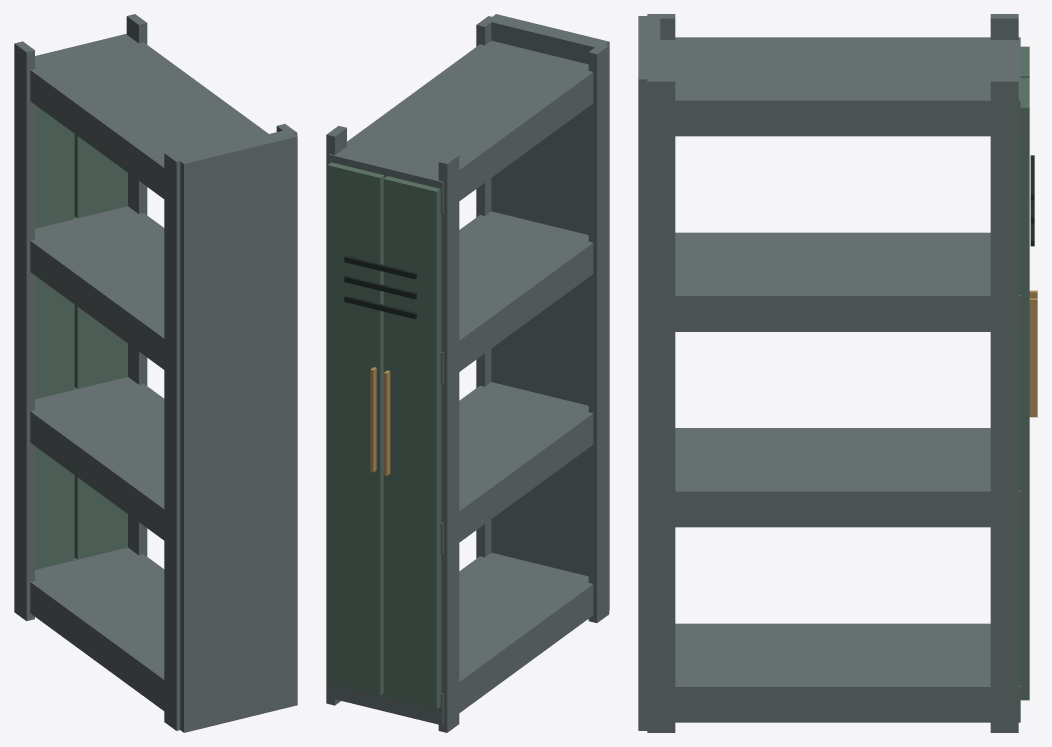
The model's file is LP_MaintenanceEast_UtilityCabinet.fbx.
3 renders of one model, left to right at view 1: azimuth 30°, elevation 25°; view 2: azimuth 150°, elevation 25°; view 3: azimuth 270°, elevation 25°, orthographic. The views are drawn at different scales.
Parts seen in each view (by area): view 1: M_Museum_BrushedMetal, SageUpholstery; view 2: M_Museum_BrushedMetal, SageUpholstery, Charcoal, AgedBrass; view 3: M_Museum_BrushedMetal, SageUpholstery, AgedBrass.
Part boxes in pixels (left/top/right/bottom): M_Museum_BrushedMetal: left=14, top=14, right=297, bottom=732; SageUpholstery: left=35, top=105, right=127, bottom=569; M_Museum_BrushedMetal: left=326, top=14, right=609, bottom=732; SageUpholstery: left=327, top=162, right=441, bottom=709; Charcoal: left=344, top=256, right=416, bottom=318; AgedBrass: left=370, top=367, right=390, bottom=475; M_Museum_BrushedMetal: left=638, top=14, right=1020, bottom=732; SageUpholstery: left=1018, top=46, right=1029, bottom=700; AgedBrass: left=1029, top=290, right=1037, bottom=417.
Size of the model in its own units: 40 by 180 by 100.
